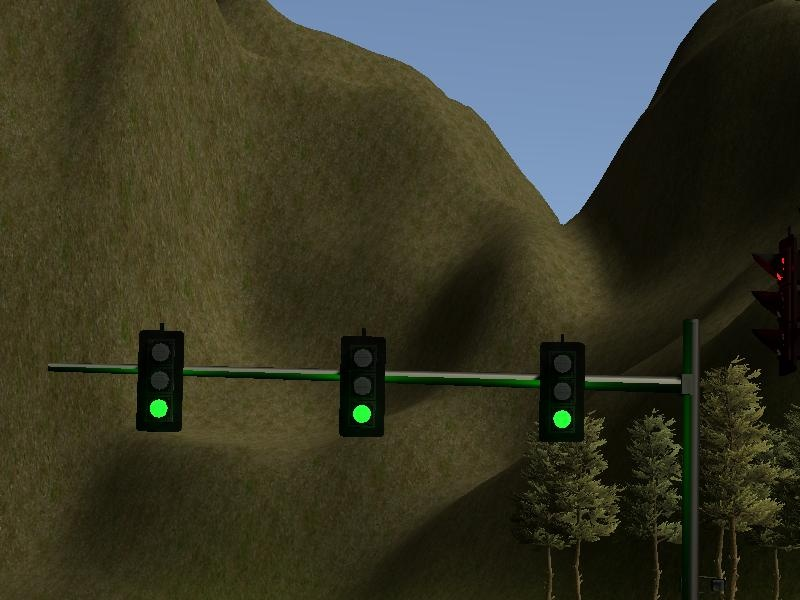green: (134, 329, 185, 433), (337, 335, 387, 437), (537, 340, 586, 442)
